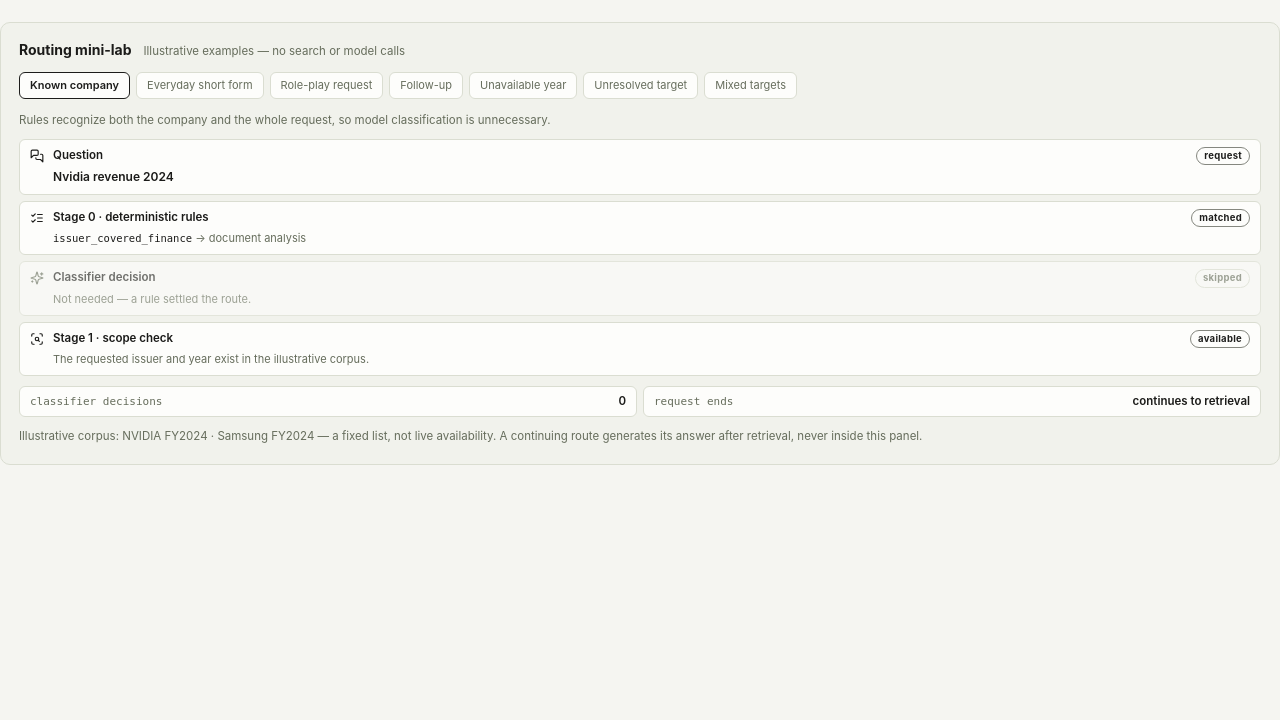
Test: drops the follow-up back to unresolved when prior conversation is off
Click the button "Follow-up". click: (426,86)
box: [389,72,463,99]
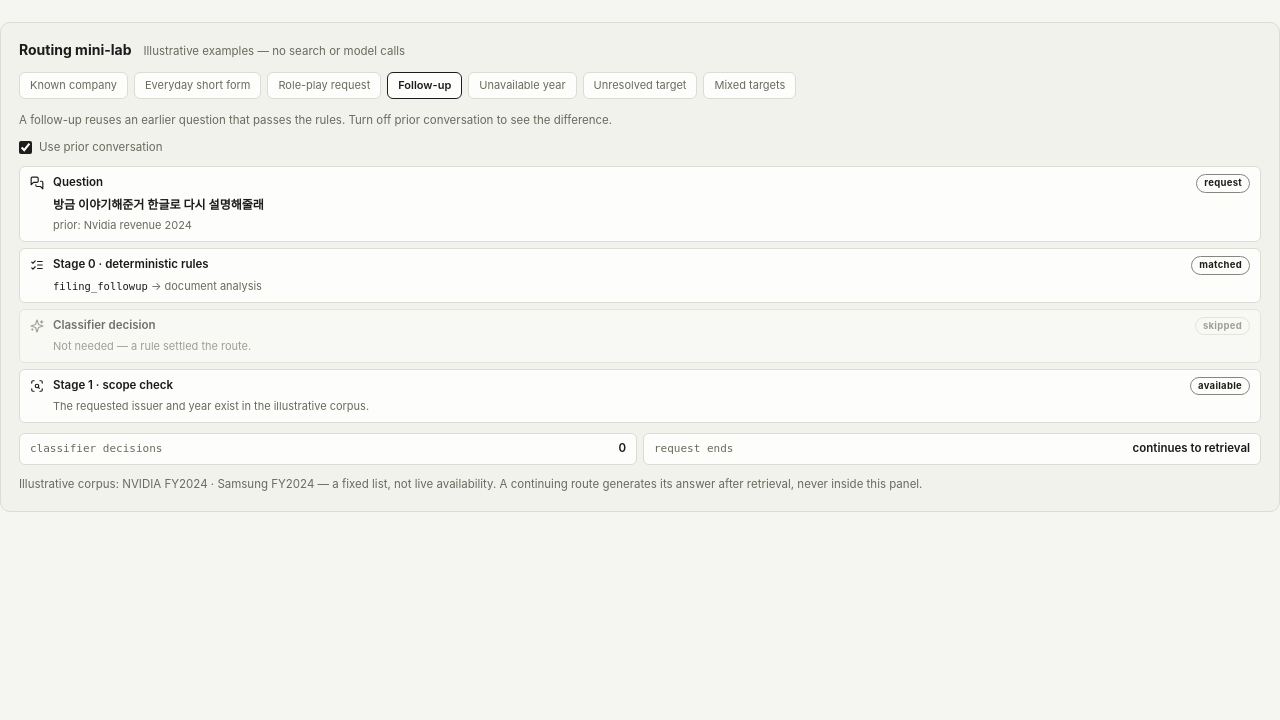
Result: the text "filing_followup" is shown at [53,280,148,292]
Result: the checkbox labelled "Use prior conversation" is checked
Click the checkbox labelled "Use prior conversation". click: (26,148)
box: [19,141,32,154]
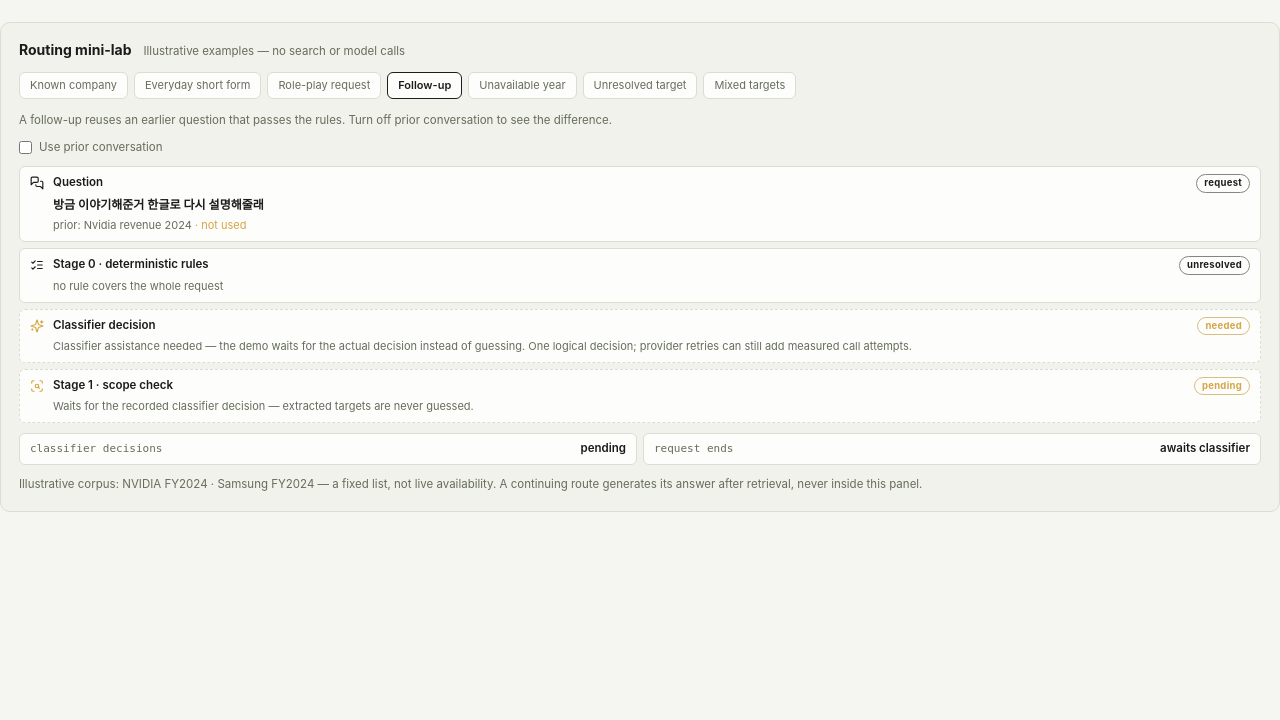
Result: the checkbox labelled "Use prior conversation" is not checked at [19,141,32,154]
Result: the text "filing_followup" is gone
Result: the text "· not used" is shown at [192,218,246,232]
